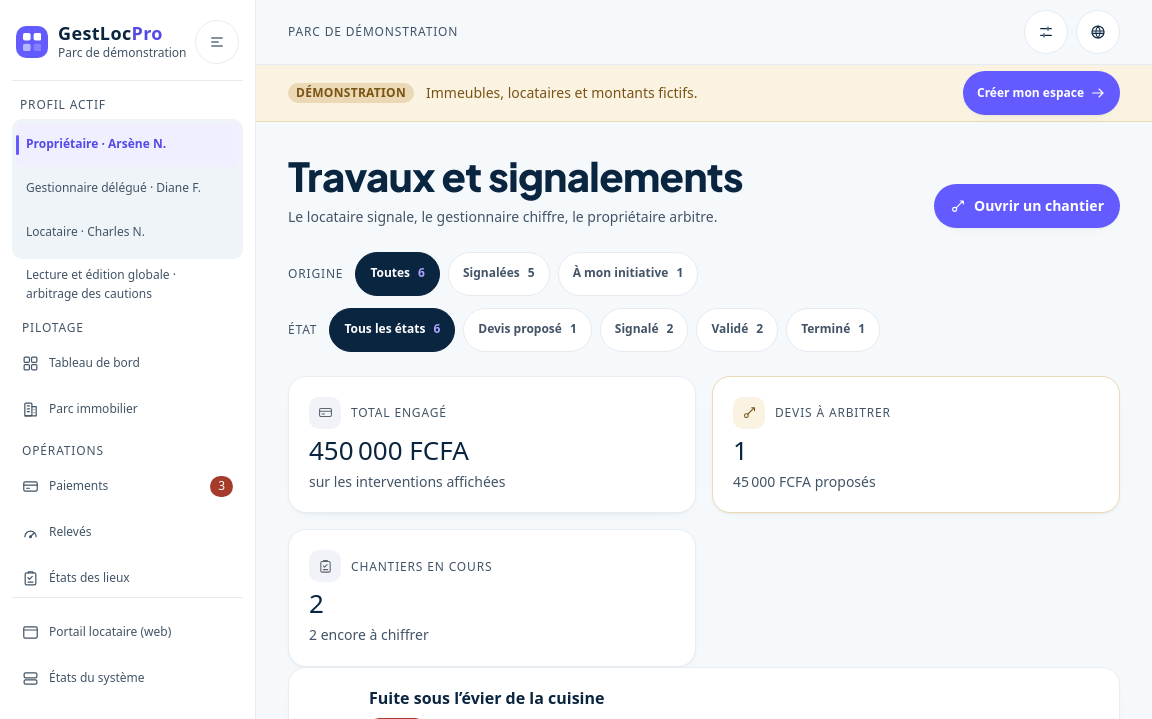
Scenario: travaux — tri par origine et total engagé › totalise ce que le parc a ENGAGÉ, pas ce qu’on lui a proposé
Check: the text "Total engagé" shows "450 000", box [309,432,469,468]
Check: the text "Total engagé" does not show "495 000", box [288,376,696,513]
Click the button "À mon initiative 1". click: click(628, 274)
box: [558,252,698,296]
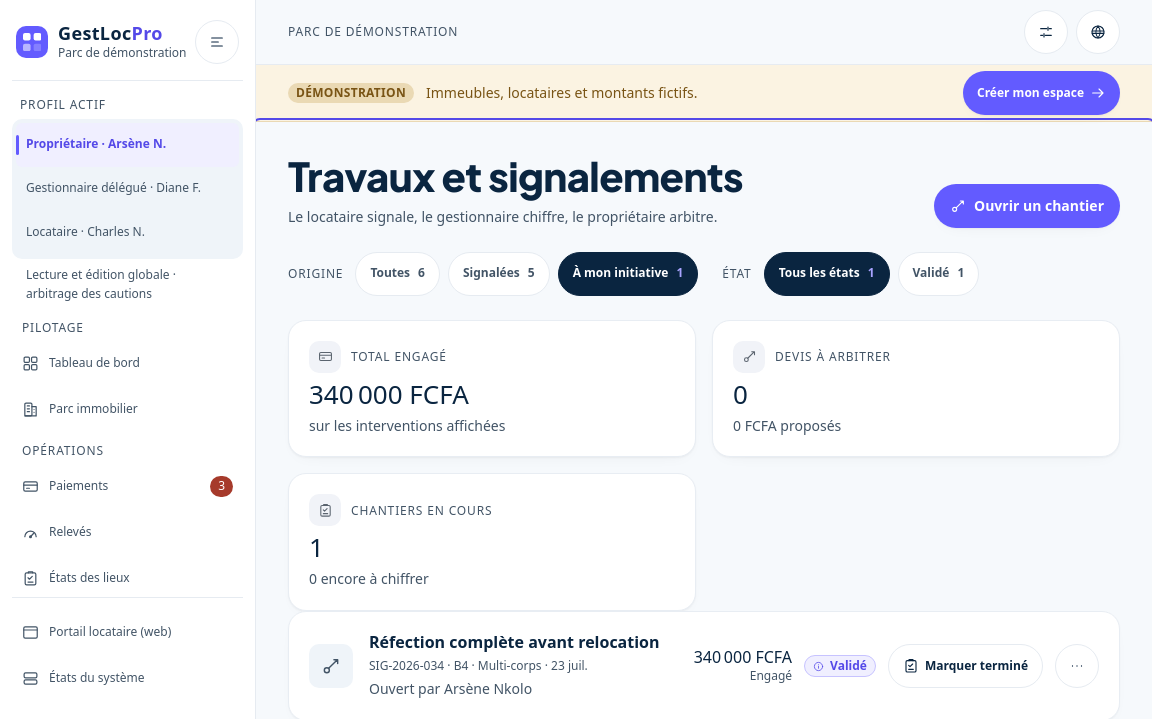
Check: the text "Total engagé" shows "340 000", box [309,376,469,412]
